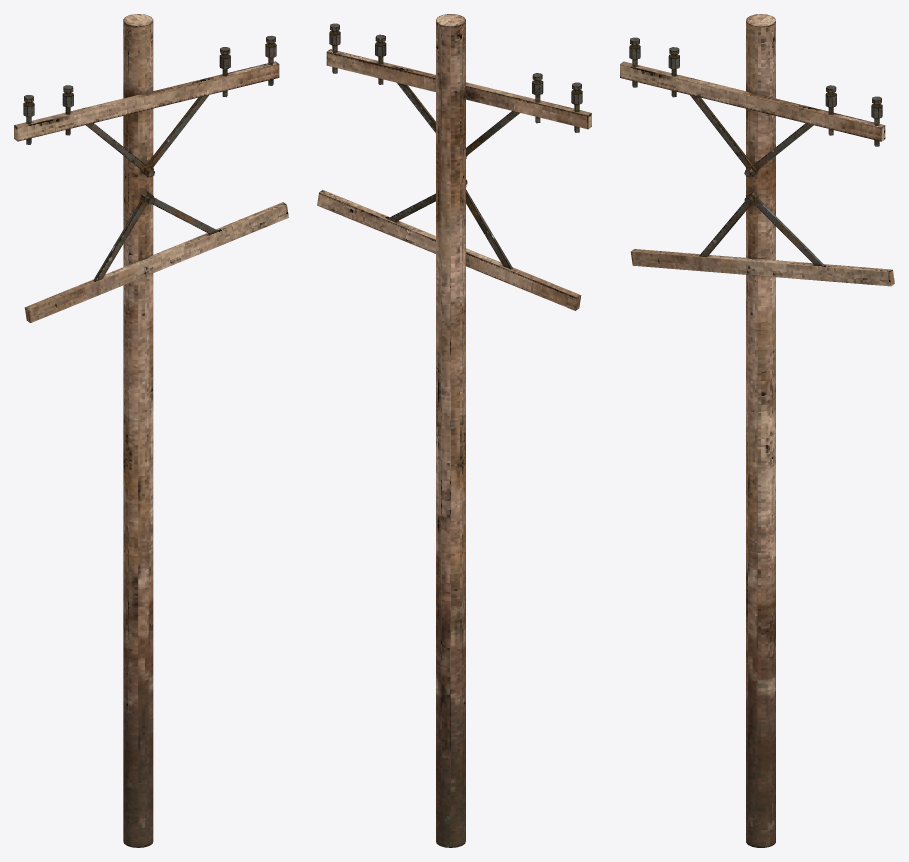
The model's file is E_Pole_2.glb.
3 renders of one model, left to right at view 1: azimuth 30°, elevation 25°; view 2: azimuth 150°, elevation 25°; view 3: azimuth 330°, elevation 25°, orthographic.
Visible parts, largest first — view 1: E_Pole_2; view 2: E_Pole_2; view 3: E_Pole_2.
Boxes of the visible parts, x1,y1,x2,y2 form: E_Pole_2: [14, 14, 288, 847]; E_Pole_2: [317, 14, 591, 847]; E_Pole_2: [620, 14, 894, 847].
Bounding box in the file's own units: 2.07 × 6 × 0.2758.
Materials: 1 (1 with a texture image).
